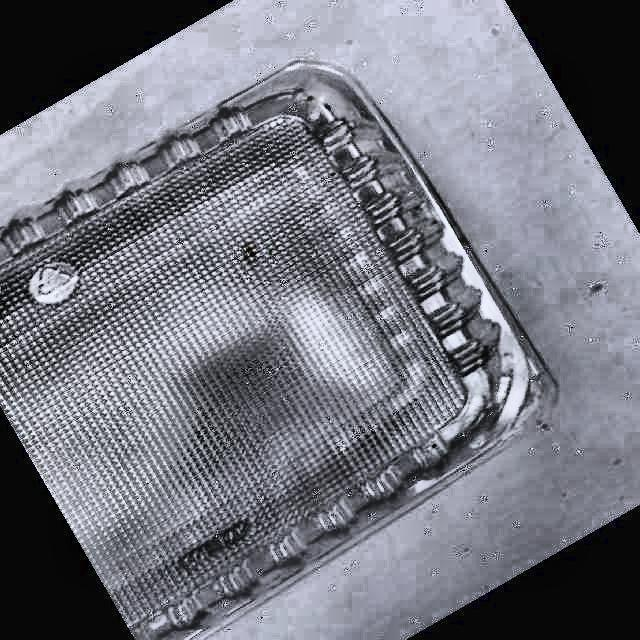plastic: (0, 62, 540, 640)
